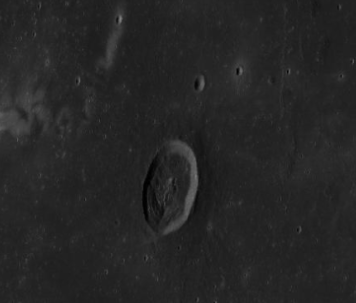crater: (107, 132, 238, 270), (94, 1, 148, 55)
